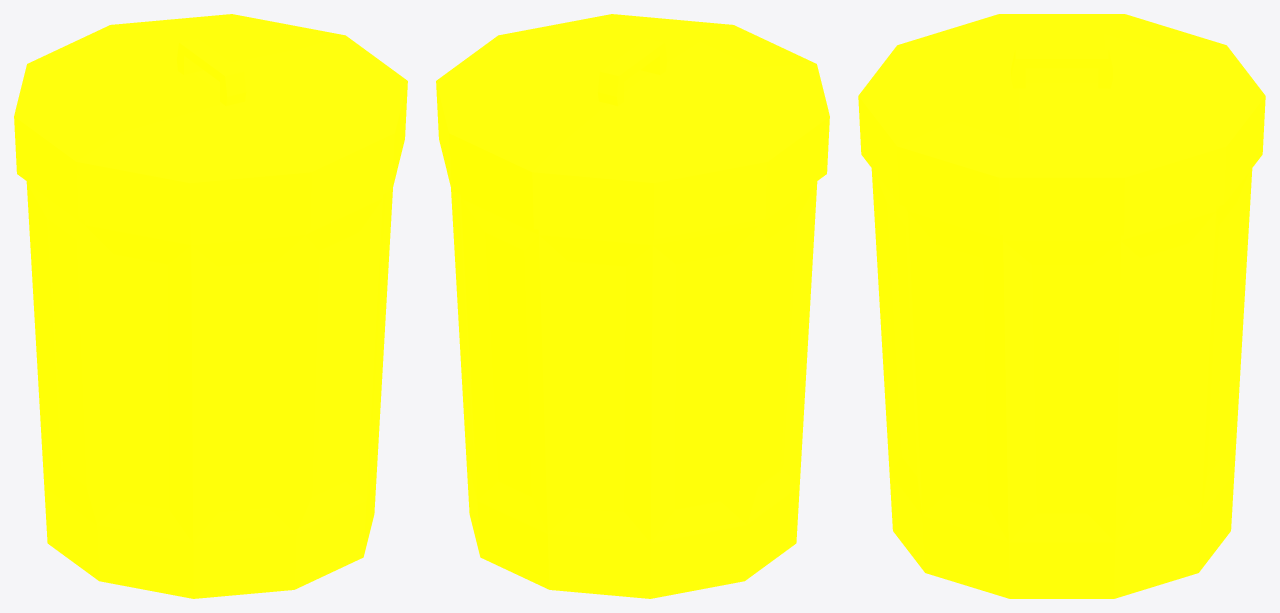
File: trash-can.glb
3 renders of one model, left to right at view 1: azimuth 30°, elevation 25°; view 2: azimuth 150°, elevation 25°; view 3: azimuth 270°, elevation 25°, orthographic.
Parts seen in each view (by area): view 1: trash-can-base, trash-can-lid; view 2: trash-can-base, trash-can-lid; view 3: trash-can-base, trash-can-lid.
Boxes of the visible parts, x1,y1,x2,y2 form: trash-can-base: (26, 181, 392, 598); trash-can-lid: (14, 14, 407, 239); trash-can-base: (451, 181, 817, 598); trash-can-lid: (436, 14, 829, 239); trash-can-base: (871, 168, 1252, 598); trash-can-lid: (858, 14, 1265, 235).
Size of the model in its own units: 0.5233 by 0.7109 by 0.5502.
Materials: 1 (1 with a texture image).
